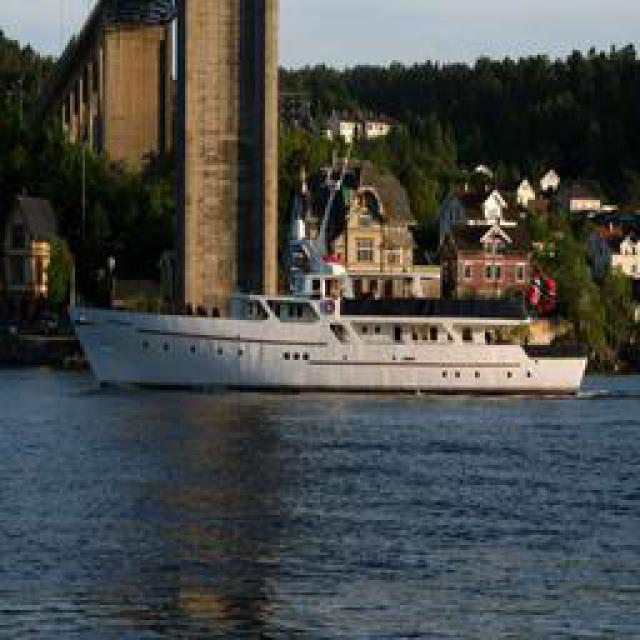Ship: (75, 277, 590, 397)
